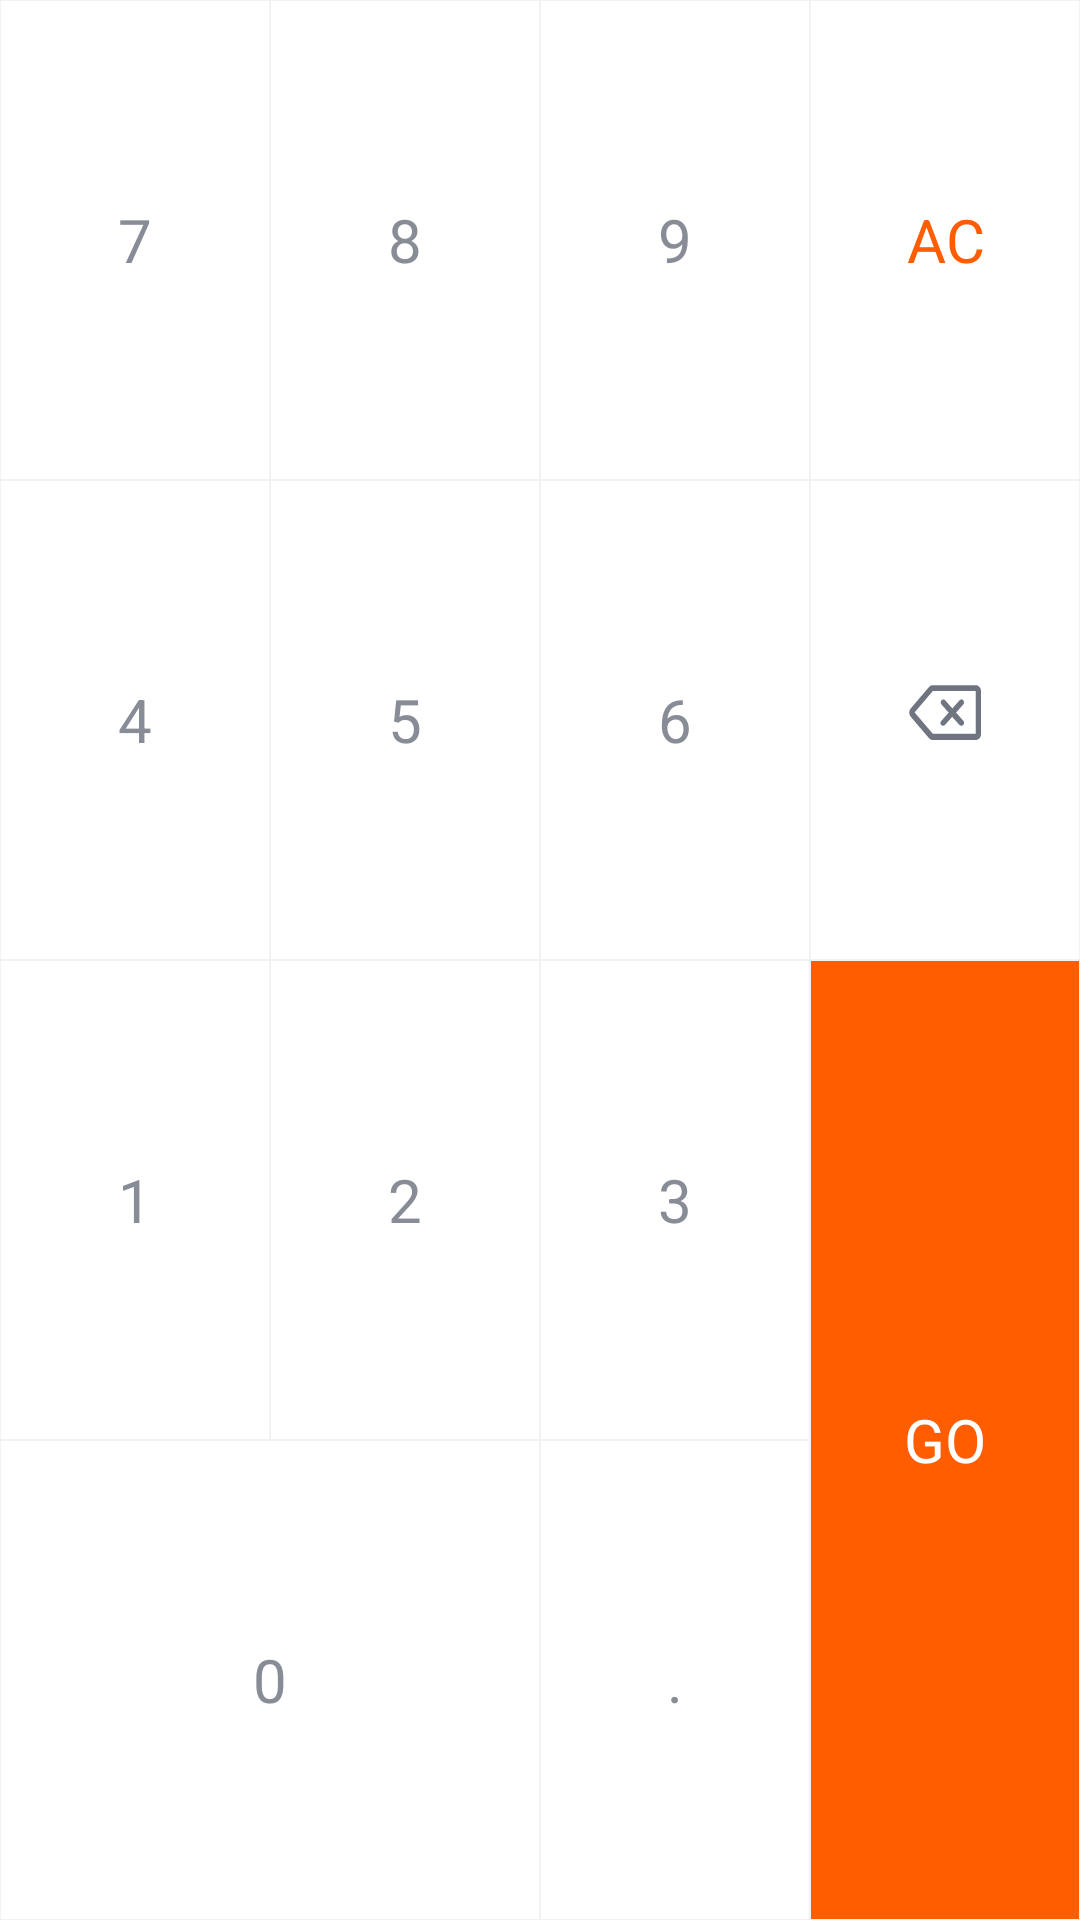

Locate icon controls on the screen. Image size 1080w x 1920h, boxes as Rect(x1, y1, x2, y2).
noun backspace: Rect(909, 685, 981, 740)
